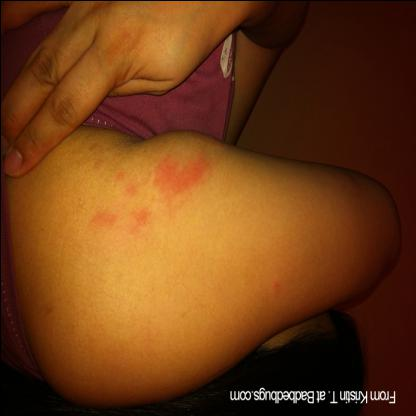Bed Bug: (152, 152, 216, 206), (84, 206, 122, 234), (111, 171, 137, 197), (128, 208, 154, 234), (264, 273, 283, 297)
